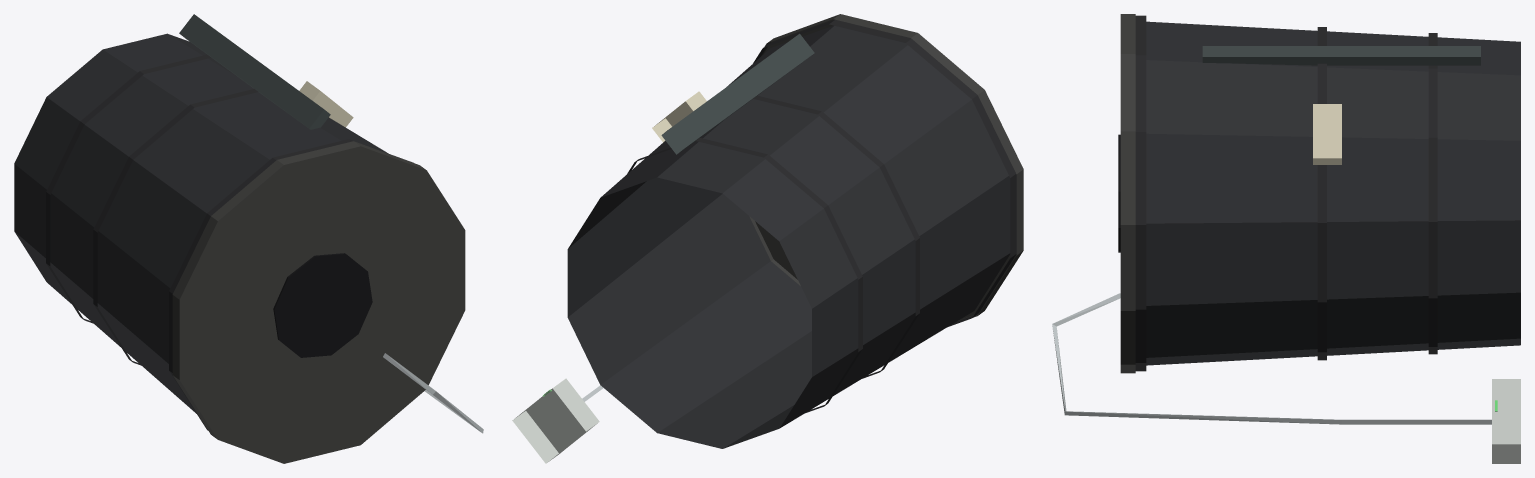
Rendered from pot_xldwc_empty.obj.
3 renders of one model, left to right at view 1: azimuth 30°, elevation 25°; view 2: azimuth 150°, elevation 25°; view 3: azimuth 270°, elevation 25°, orthographic. The views are drawn at different scales.
Bounding box in the file's own units: 0.68 × 0.697 × 0.812.
Materials: 1 (1 with a texture image).
